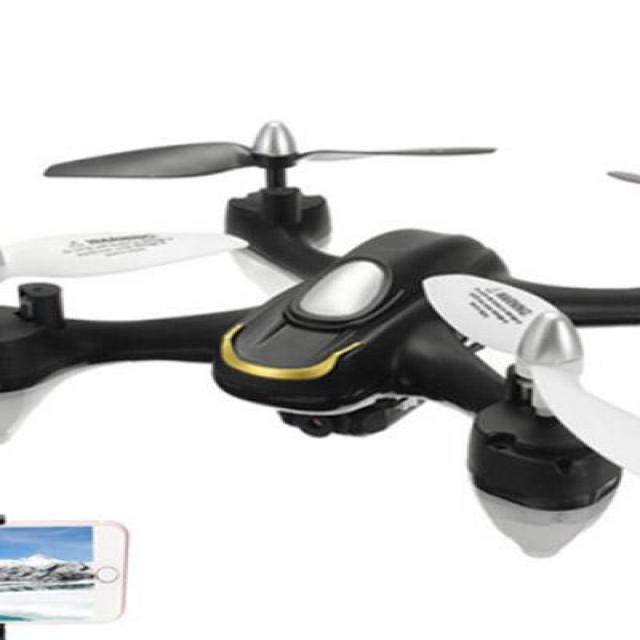drone: (0, 123, 640, 568)
